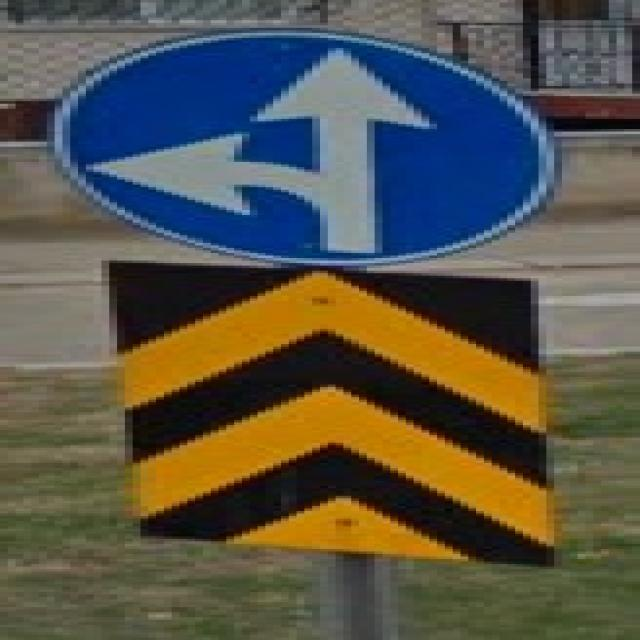Straight or Left: (48, 25, 555, 265)
